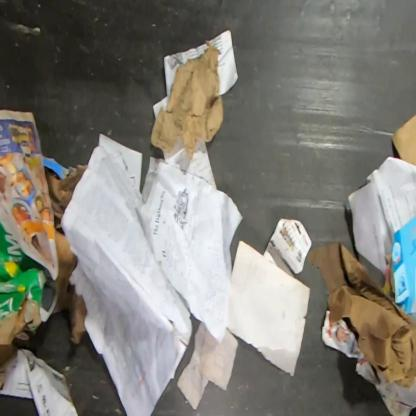cardboard: (305, 242, 415, 389), (150, 40, 224, 161), (42, 156, 88, 345), (0, 219, 50, 390), (392, 113, 415, 167)
